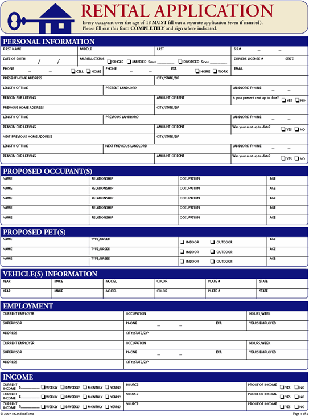checkbox: (59, 383, 66, 390), (59, 403, 66, 410), (177, 58, 183, 65), (70, 67, 76, 74), (85, 68, 92, 74), (281, 96, 287, 103), (294, 97, 301, 103), (293, 126, 300, 132), (293, 155, 300, 161), (210, 238, 216, 245), (179, 248, 185, 255), (104, 383, 110, 390), (81, 393, 88, 399), (104, 393, 110, 400), (40, 403, 46, 410), (81, 404, 88, 410), (104, 403, 110, 410), (279, 384, 286, 390), (294, 393, 300, 400), (293, 403, 300, 409), (126, 58, 132, 64), (212, 68, 218, 74), (280, 155, 286, 161), (210, 258, 216, 264), (40, 384, 46, 390), (40, 394, 46, 400), (294, 384, 300, 390), (279, 394, 285, 400), (280, 127, 287, 132), (210, 248, 215, 255), (107, 58, 112, 64), (195, 68, 200, 74), (179, 239, 185, 244), (180, 258, 185, 264), (82, 384, 87, 390), (280, 403, 285, 409), (60, 394, 64, 399)
textbox: (121, 356, 309, 371), (123, 327, 309, 342), (1, 122, 157, 136), (153, 132, 309, 146), (1, 151, 157, 165), (121, 337, 250, 353), (1, 93, 157, 106), (154, 74, 309, 87), (1, 103, 156, 116), (154, 103, 309, 116), (1, 132, 156, 145), (1, 337, 126, 353), (101, 141, 234, 156), (122, 308, 250, 323), (121, 347, 249, 362), (122, 389, 250, 404), (122, 398, 250, 413), (123, 318, 249, 333), (1, 318, 126, 333), (1, 357, 126, 372), (77, 55, 233, 67), (1, 74, 157, 86), (1, 308, 125, 323), (123, 380, 250, 394), (1, 328, 126, 342), (102, 113, 233, 126), (103, 84, 233, 97), (87, 233, 180, 251), (1, 348, 126, 361), (176, 202, 270, 219), (103, 65, 232, 77), (176, 192, 270, 208), (87, 202, 181, 218), (86, 252, 180, 268), (177, 182, 269, 198), (1, 202, 92, 218), (1, 142, 104, 156), (1, 193, 91, 209), (176, 174, 270, 189), (87, 244, 181, 259), (87, 173, 180, 188), (87, 211, 180, 226), (176, 212, 269, 227), (1, 244, 93, 259), (1, 174, 92, 189), (1, 183, 92, 198), (1, 84, 105, 97), (87, 193, 181, 207), (88, 183, 180, 197), (1, 235, 92, 249), (1, 213, 91, 227), (1, 254, 91, 268), (1, 113, 104, 125), (153, 122, 234, 137), (230, 112, 309, 127), (230, 151, 309, 166), (231, 43, 309, 58), (1, 65, 105, 76), (153, 151, 233, 165), (230, 53, 309, 67), (154, 93, 233, 107), (230, 93, 309, 107), (230, 123, 309, 137), (230, 142, 309, 156), (154, 44, 232, 58), (230, 84, 309, 97), (245, 337, 309, 353), (244, 347, 309, 362), (77, 45, 155, 57), (153, 276, 208, 292), (204, 276, 259, 292), (1, 46, 79, 57), (231, 66, 309, 77), (256, 275, 309, 291), (1, 55, 78, 66), (244, 309, 309, 322), (101, 277, 157, 292), (50, 277, 105, 292), (151, 286, 209, 300), (50, 286, 107, 300), (101, 286, 157, 300), (203, 286, 259, 300), (1, 286, 55, 300), (255, 286, 309, 300), (1, 277, 54, 291), (265, 202, 309, 218), (245, 320, 309, 331), (266, 234, 309, 250), (265, 193, 309, 208), (265, 244, 309, 259), (266, 183, 309, 198), (266, 174, 309, 188), (266, 254, 309, 268), (265, 213, 309, 226), (59, 55, 79, 67), (40, 55, 59, 67), (25, 55, 39, 67)
textline: (20, 382, 40, 390), (21, 393, 40, 400), (21, 403, 40, 410), (211, 58, 228, 64), (157, 59, 174, 64)
